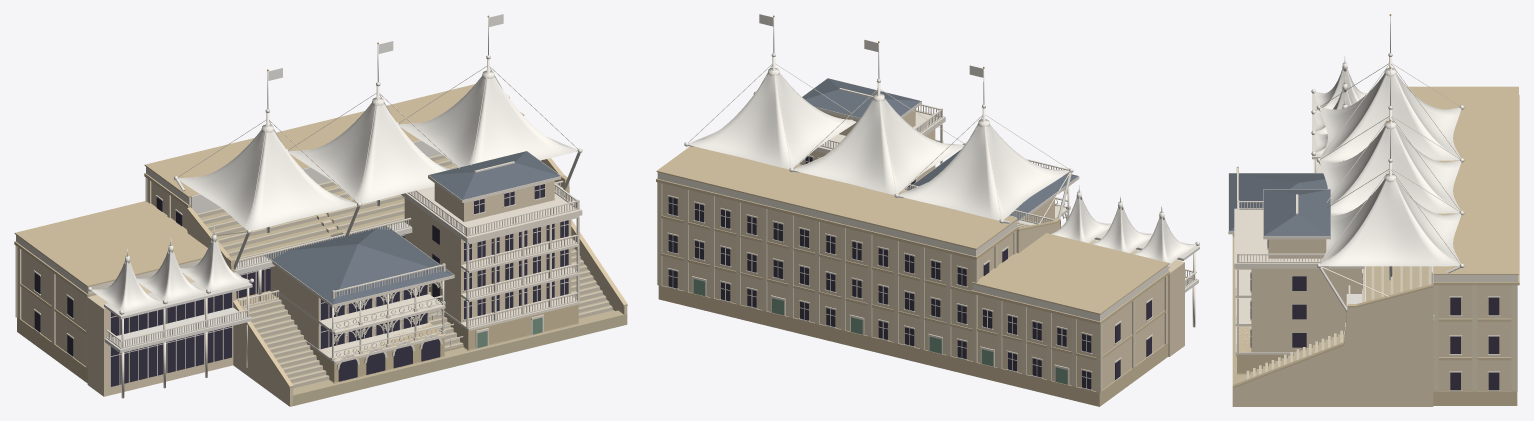
The model's file is gen-ring-l_stands.glb.
3 renders of one model, left to right at view 1: azimuth 30°, elevation 25°; view 2: azimuth 150°, elevation 25°; view 3: azimuth 270°, elevation 25°, orthographic. The views are drawn at different scales.
Visible parts, largest first — view 1: park_tent_stand, york_pavilions; view 2: park_tent_stand, york_pavilions; view 3: park_tent_stand, york_pavilions.
Boxes of the visible parts, bbox=[...] form: park_tent_stand: bbox=[14, 14, 627, 406]; york_pavilions: bbox=[264, 151, 582, 383]; park_tent_stand: bbox=[656, 14, 1199, 406]; york_pavilions: bbox=[799, 78, 1079, 223]; park_tent_stand: bbox=[1232, 14, 1519, 406]; york_pavilions: bbox=[1228, 166, 1364, 374].
Bounding box in the file's own units: 59.31 × 32.07 × 32.6.
